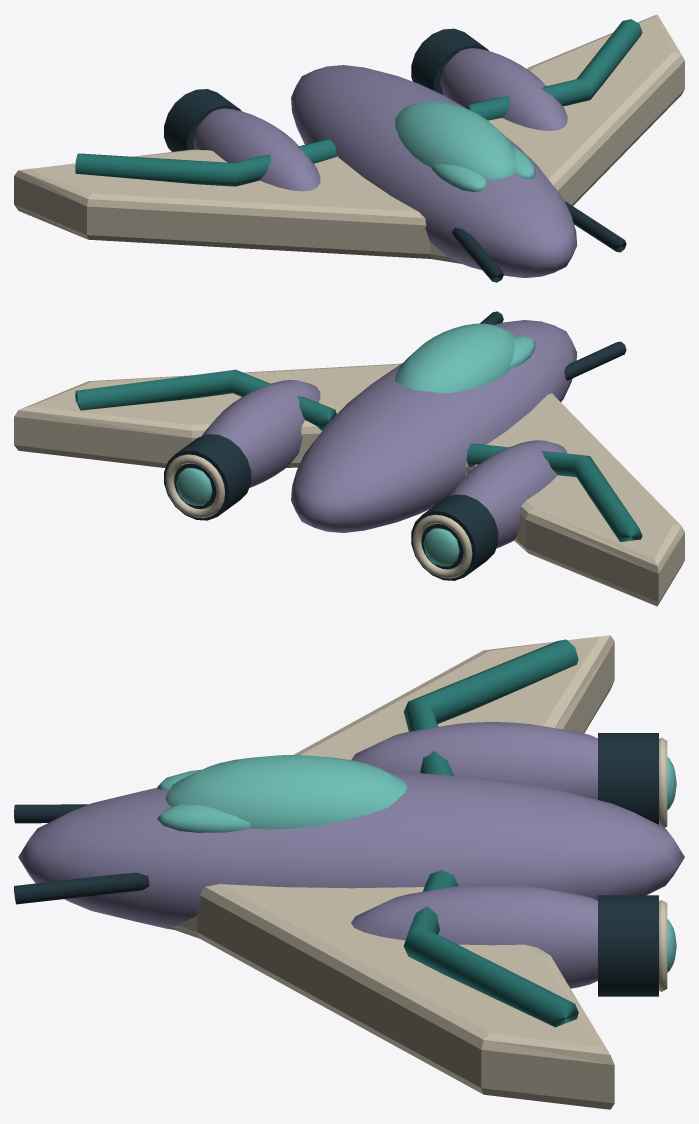
Rendered from alien-manta.glb.
3 views of the same model, one above another, from view 1: azimuth 30°, elevation 25°; view 2: azimuth 150°, elevation 25°; view 3: azimuth 270°, elevation 25° (orthographic). The views are drawn at different scales.
Parts seen in each view (by area): view 1: shell, emission; view 2: shell, emission; view 3: shell, emission.
Part boxes in pixels (left/top/right/bottom): shell: left=14, top=14, right=684, bottom=282; emission: left=395, top=101, right=535, bottom=191; shell: left=14, top=311, right=684, bottom=606; emission: left=176, top=323, right=535, bottom=566; shell: left=14, top=635, right=684, bottom=1109; emission: left=157, top=755, right=676, bottom=972.
Size of the model in its own units: 3.55 by 0.65 by 2.37.
